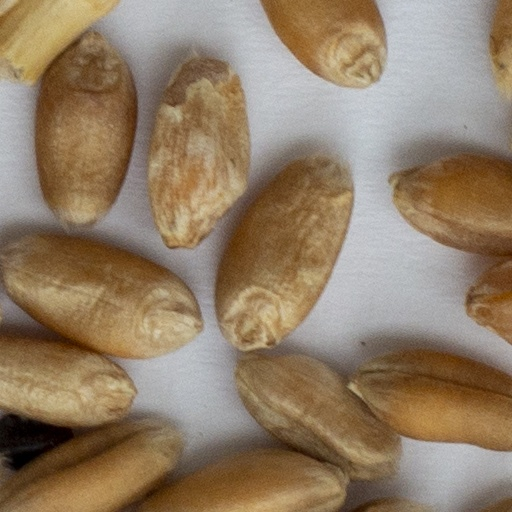Fallopia-Convolvulus-poly: (0, 416, 71, 456)
Peel-poly: (0, 0, 115, 79)
